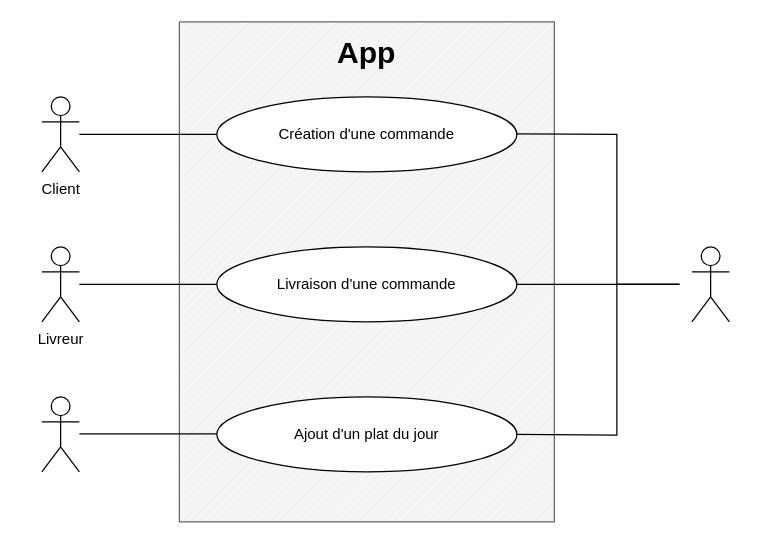
This 761x544 diagram has some shape labels left out. The centre of each missing label's shape, as x and y in pixels:
"Backend" goes at (710,284).
"Restaurant" goes at (60,434).
